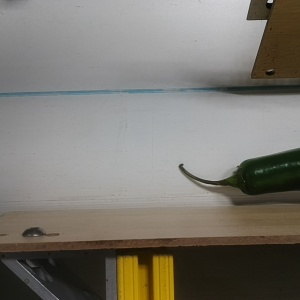Cut Point: (222, 155, 264, 199)
